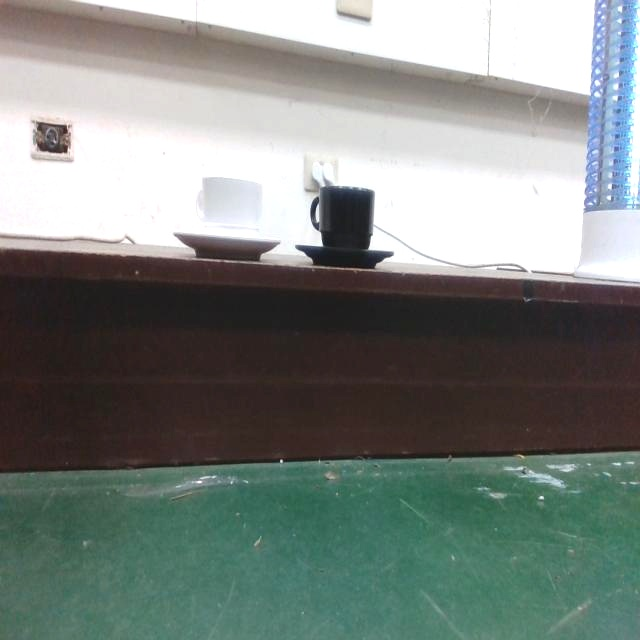black: (292, 182, 396, 272)
white: (172, 169, 282, 262)
